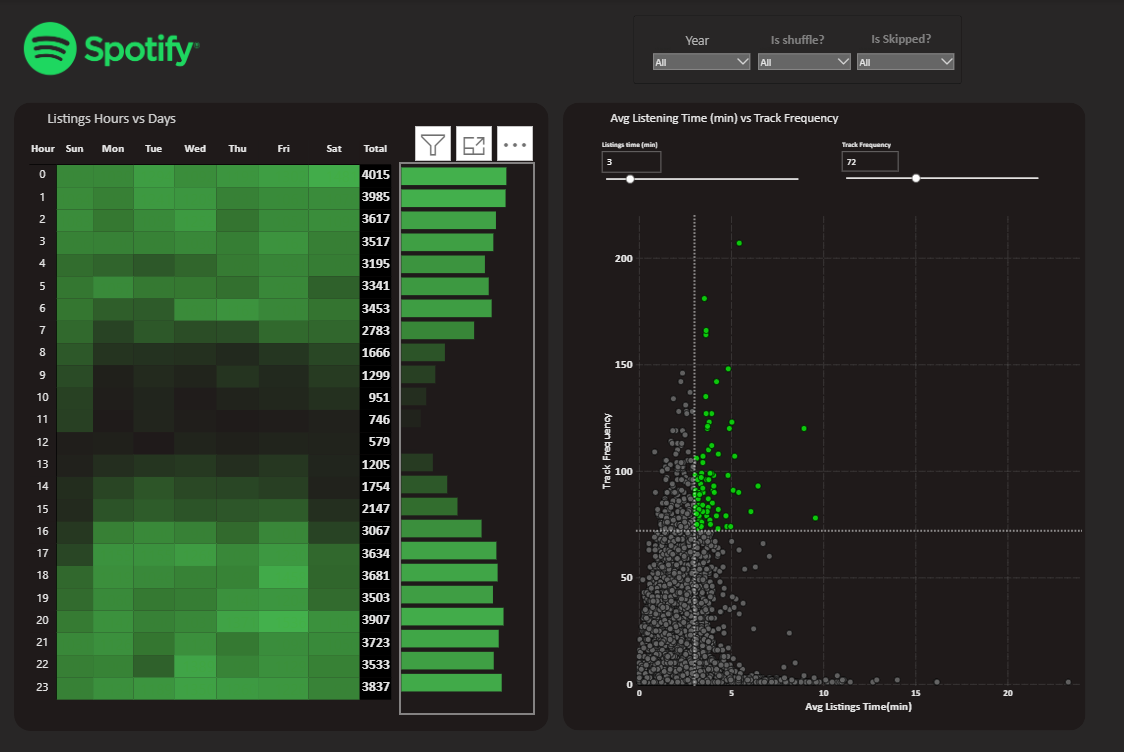

Layout of this report page (visuals, bound fields, positions):
{"tool":"powerbi","page":{"name":"Listing patterns","canvas":[3300,2200],"ordinal":1},"visuals":[{"type":"image","box":[43.7,48.6,573,200],"z":0},{"type":"shape","box":[43.8,302,1560,1833.9],"z":1000},{"type":"textbox","box":[1199.2,302,359.7,102.1],"z":2000},{"type":"textbox","box":[2166.5,65.7,446.4,83.2],"z":3000},{"type":"shape","box":[1851.7,48.6,957.5,199.3],"z":4000},{"type":"slicer","fields":{"Values":["spotify_history.shuffle"]},"box":[2205.9,131.3,288.9,78.8],"z":5000},{"type":"slicer","fields":{"Values":["spotify_history.skipped"]},"box":[2494.7,131.3,302,78.8],"z":6000},{"type":"textbox","box":[2201.5,91.9,258.2,83.2],"z":7000},{"type":"textbox","box":[2503.5,87.5,258.2,83.2],"z":8000},{"type":"pivotTable","fields":{"Rows":["spotify_history.Hour"],"Columns":["Date Table.Day name"],"Values":["spotify_history.No of Tracks"]},"box":[83.5,407.3,1117.4,1681.3],"z":9000},{"type":"barChart","fields":{"Category":["spotify_history.Hour"],"Y":["spotify_history.No of Tracks"]},"box":[1169.6,475.2,391.6,1613.4],"z":10000},{"type":"textbox","box":[104.4,313.3,446.4,83.2],"z":11000},{"type":"shape","box":[1647.6,301.3,1524.7,1832.8],"z":12000},{"type":"scatterChart","fields":{"X":["spotify_history.Avg Listings Time(min)"],"Y":["spotify_history.Track Frequency"],"Category":["spotify_history.track_name"]},"box":[1744.8,617.2,1430.7,1470],"z":13000},{"type":"slicer","fields":{"Values":["Listings time (min) .Listings time (min) "]},"box":[1744.8,408.3,607.5,165.2],"z":14000},{"type":"slicer","fields":{"Values":["Track Frequency (Parameter).Track Frequency (Parameter)"]},"box":[2444.7,408.3,607.5,165.2],"z":15000},{"type":"textbox","box":[1715.7,320.8,801.9,72.9],"z":16000},{"type":"slicer","fields":{"Values":["spotify_history.skipped"]},"box":[1900.3,131.2,302,78.8],"z":17000},{"type":"textbox","box":[1910.1,87.5,258.2,83.2],"z":18000}]}

Visuals, with their boxes in screenshot pixels (x1, y1, x2, y2), scaled from the page's 3300x2200 canvas onto the 1124x752 screenshot:
image: detection(15, 17, 210, 85)
shape: detection(15, 103, 546, 730)
textbox: detection(408, 103, 531, 138)
textbox: detection(738, 22, 890, 51)
shape: detection(631, 17, 957, 85)
slicer - spotify_history.shuffle: detection(751, 45, 850, 72)
slicer - spotify_history.skipped: detection(850, 45, 953, 72)
textbox: detection(750, 31, 838, 60)
textbox: detection(853, 30, 941, 58)
pivotTable - spotify_history.Hour x Date Table.Day name: detection(28, 139, 409, 714)
barChart - spotify_history.Hour x spotify_history.No of Tracks: detection(398, 162, 532, 714)
textbox: detection(36, 107, 188, 136)
shape: detection(561, 103, 1081, 729)
scatterChart - spotify_history.Avg Listings Time(min) x spotify_history.Track Frequency: detection(594, 211, 1082, 713)
slicer - Listings time (min) .Listings time (min) : detection(594, 140, 801, 196)
slicer - Track Frequency (Parameter).Track Frequency (Parameter): detection(833, 140, 1040, 196)
textbox: detection(584, 110, 858, 135)
slicer - spotify_history.skipped: detection(647, 45, 750, 72)
textbox: detection(651, 30, 739, 58)
